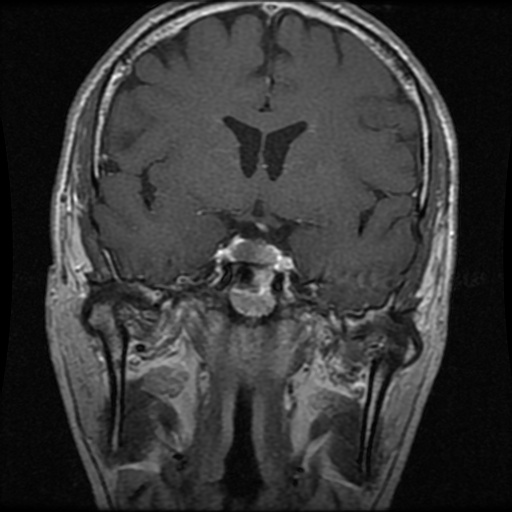pituitary: (214, 238, 295, 272)
